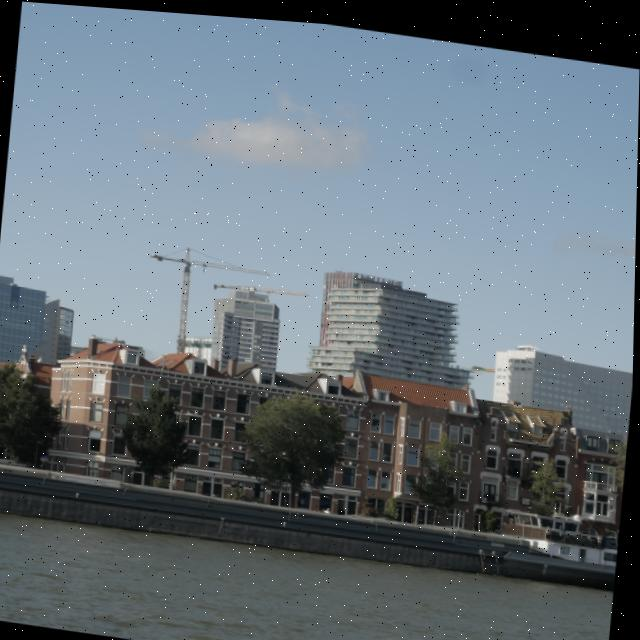building: (41, 326, 631, 554), (309, 264, 481, 388), (484, 334, 633, 432), (201, 280, 288, 370), (0, 270, 76, 365)
